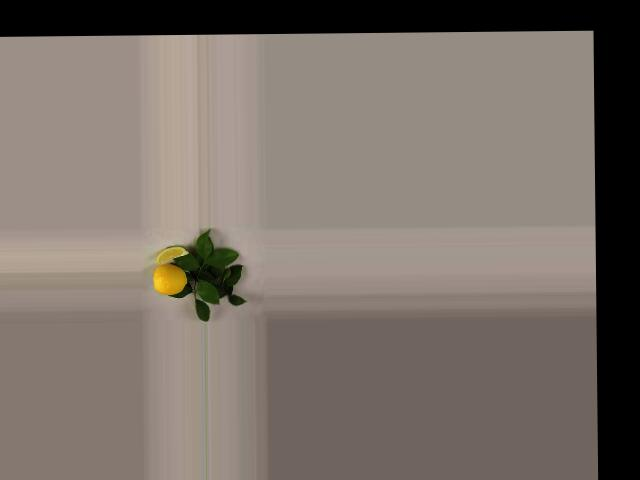lemon: (153, 266, 190, 296)
